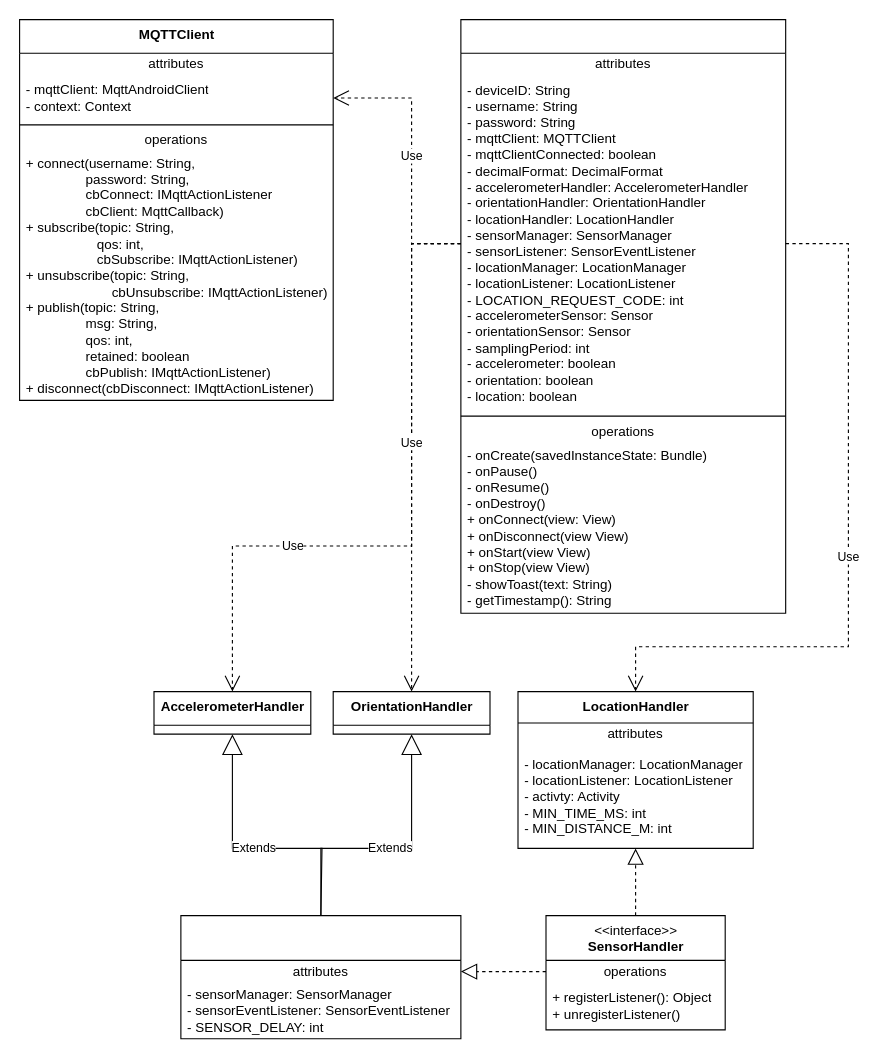
This 884x1058 diagram has some shape labels left out. The box of each missing label's shape, as (x1, y1, x2, y2) in pixels:
<<abstract>> AbstractSensorHandler: (180, 914, 461, 1039)
MainActivity: (460, 18, 786, 613)
